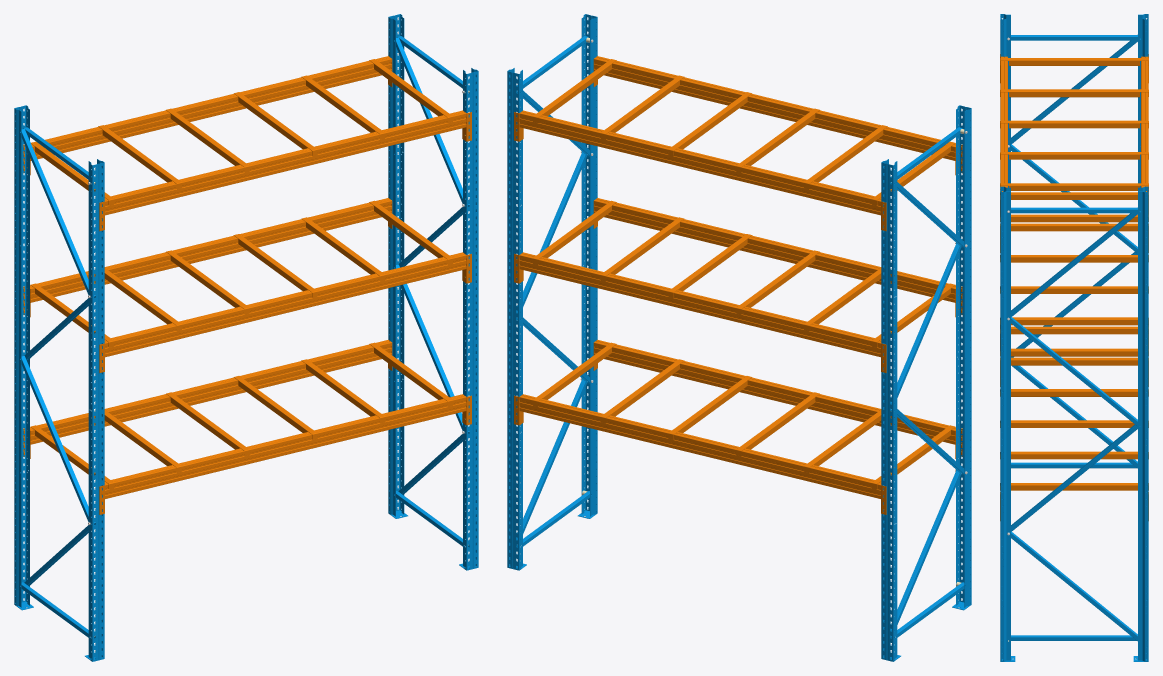
Rendered from 1000-2850-重型货架.glb.
The picture shows the model from 3 angles, left to right: view 1: azimuth 30°, elevation 25°; view 2: azimuth 150°, elevation 25°; view 3: azimuth 270°, elevation 25°; orthographic projection. The views are drawn at different scales.
Visible parts, largest first — view 1: 1000-2850-横梁-1 (×6), 1000-2850-立柱-1 (×2), 1000-2850-立柱-2 (×2), 1000-2850-40-40方管-1 (×15), 1000-2850-斜拉-3 (×2), 1000-2850-斜拉-1 (×2); view 2: 1000-2850-横梁-1 (×6), 1000-2850-立柱-2 (×2), 1000-2850-立柱-1 (×2), 1000-2850-40-40方管-1 (×15), 1000-2850-斜拉-6 (×2), 1000-2850-斜拉-4 (×2); view 3: 1000-2850-40-40方管-1 (×18), 1000-2850-立柱-2 (×2), 1000-2850-立柱-1 (×2), 1000-2850-横梁-1 (×2), 1000-2850-斜拉-1 (×2), 1000-2850-斜拉-6 (×2), 1000-2850-横拉-1 (×2), 1000-2850-斜拉-3 (×2), 1000-2850-斜拉-4 (×2), 1000-2850-横拉-2 (×2).
Part boxes in pixels (<box>): 1000-2850-横梁-1 (×6): <box>30,56,466,498</box>; 1000-2850-立柱-1 (×2): <box>85,68,478,661</box>; 1000-2850-立柱-2 (×2): <box>14,14,407,610</box>; 1000-2850-40-40方管-1 (×15): <box>102,62,447,465</box>; 1000-2850-斜拉-3 (×2): <box>20,264,469,523</box>; 1000-2850-斜拉-1 (×2): <box>20,37,469,296</box>; 1000-2850-横梁-1 (×6): <box>519,56,955,498</box>; 1000-2850-立柱-2 (×2): <box>507,68,900,661</box>; 1000-2850-立柱-1 (×2): <box>578,14,971,610</box>; 1000-2850-40-40方管-1 (×15): <box>538,62,883,465</box>; 1000-2850-斜拉-6 (×2): <box>516,379,961,636</box>; 1000-2850-斜拉-4 (×2): <box>516,152,961,409</box>; 1000-2850-40-40方管-1 (×18): <box>1009,58,1139,490</box>; 1000-2850-立柱-2 (×2): <box>1133,14,1148,661</box>; 1000-2850-立柱-1 (×2): <box>1000,14,1015,661</box>; 1000-2850-横梁-1 (×2): <box>1000,56,1148,191</box>; 1000-2850-斜拉-1 (×2): <box>1011,34,1137,316</box>; 1000-2850-斜拉-6 (×2): <box>1011,365,1140,641</box>; 1000-2850-横拉-1 (×2): <box>1011,35,1140,213</box>; 1000-2850-斜拉-3 (×2): <box>1011,252,1140,531</box>; 1000-2850-斜拉-4 (×2): <box>1011,144,1140,426</box>; 1000-2850-横拉-2 (×2): <box>1011,462,1136,640</box>.
Size of the model in its own units: 2.85 by 3.5 by 1.01.
